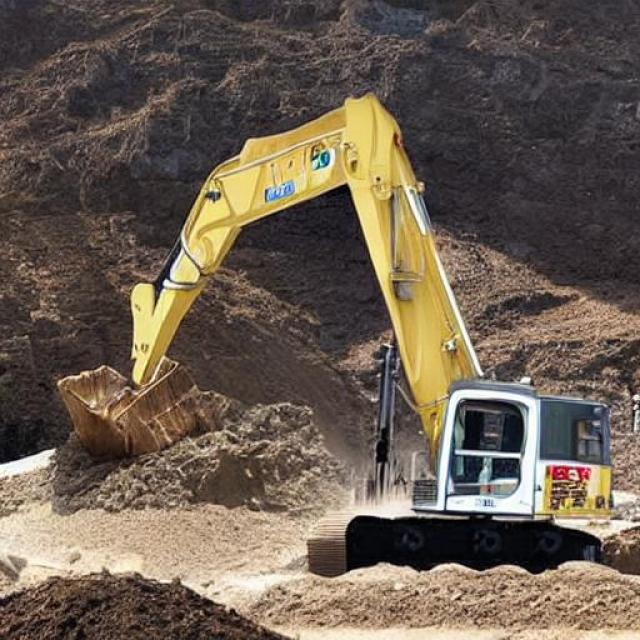excavator: (434, 584, 489, 640), (0, 580, 25, 636)
